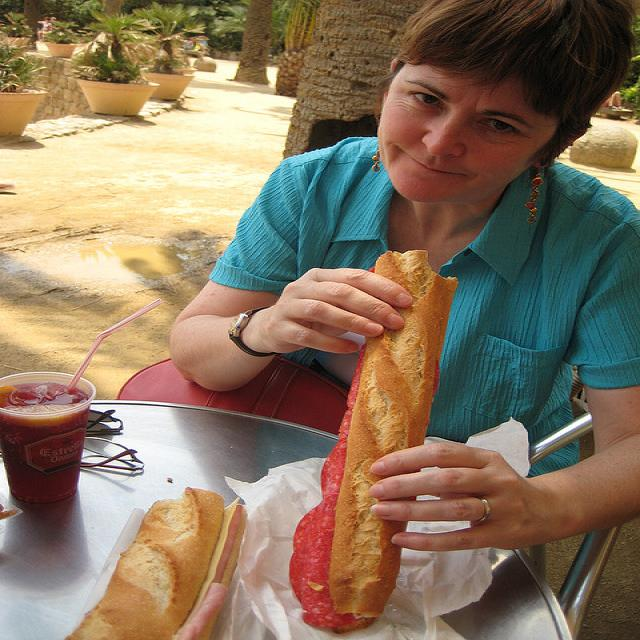chair: (530, 412, 627, 627), (300, 114, 382, 153)
dining table: (0, 399, 573, 640)
